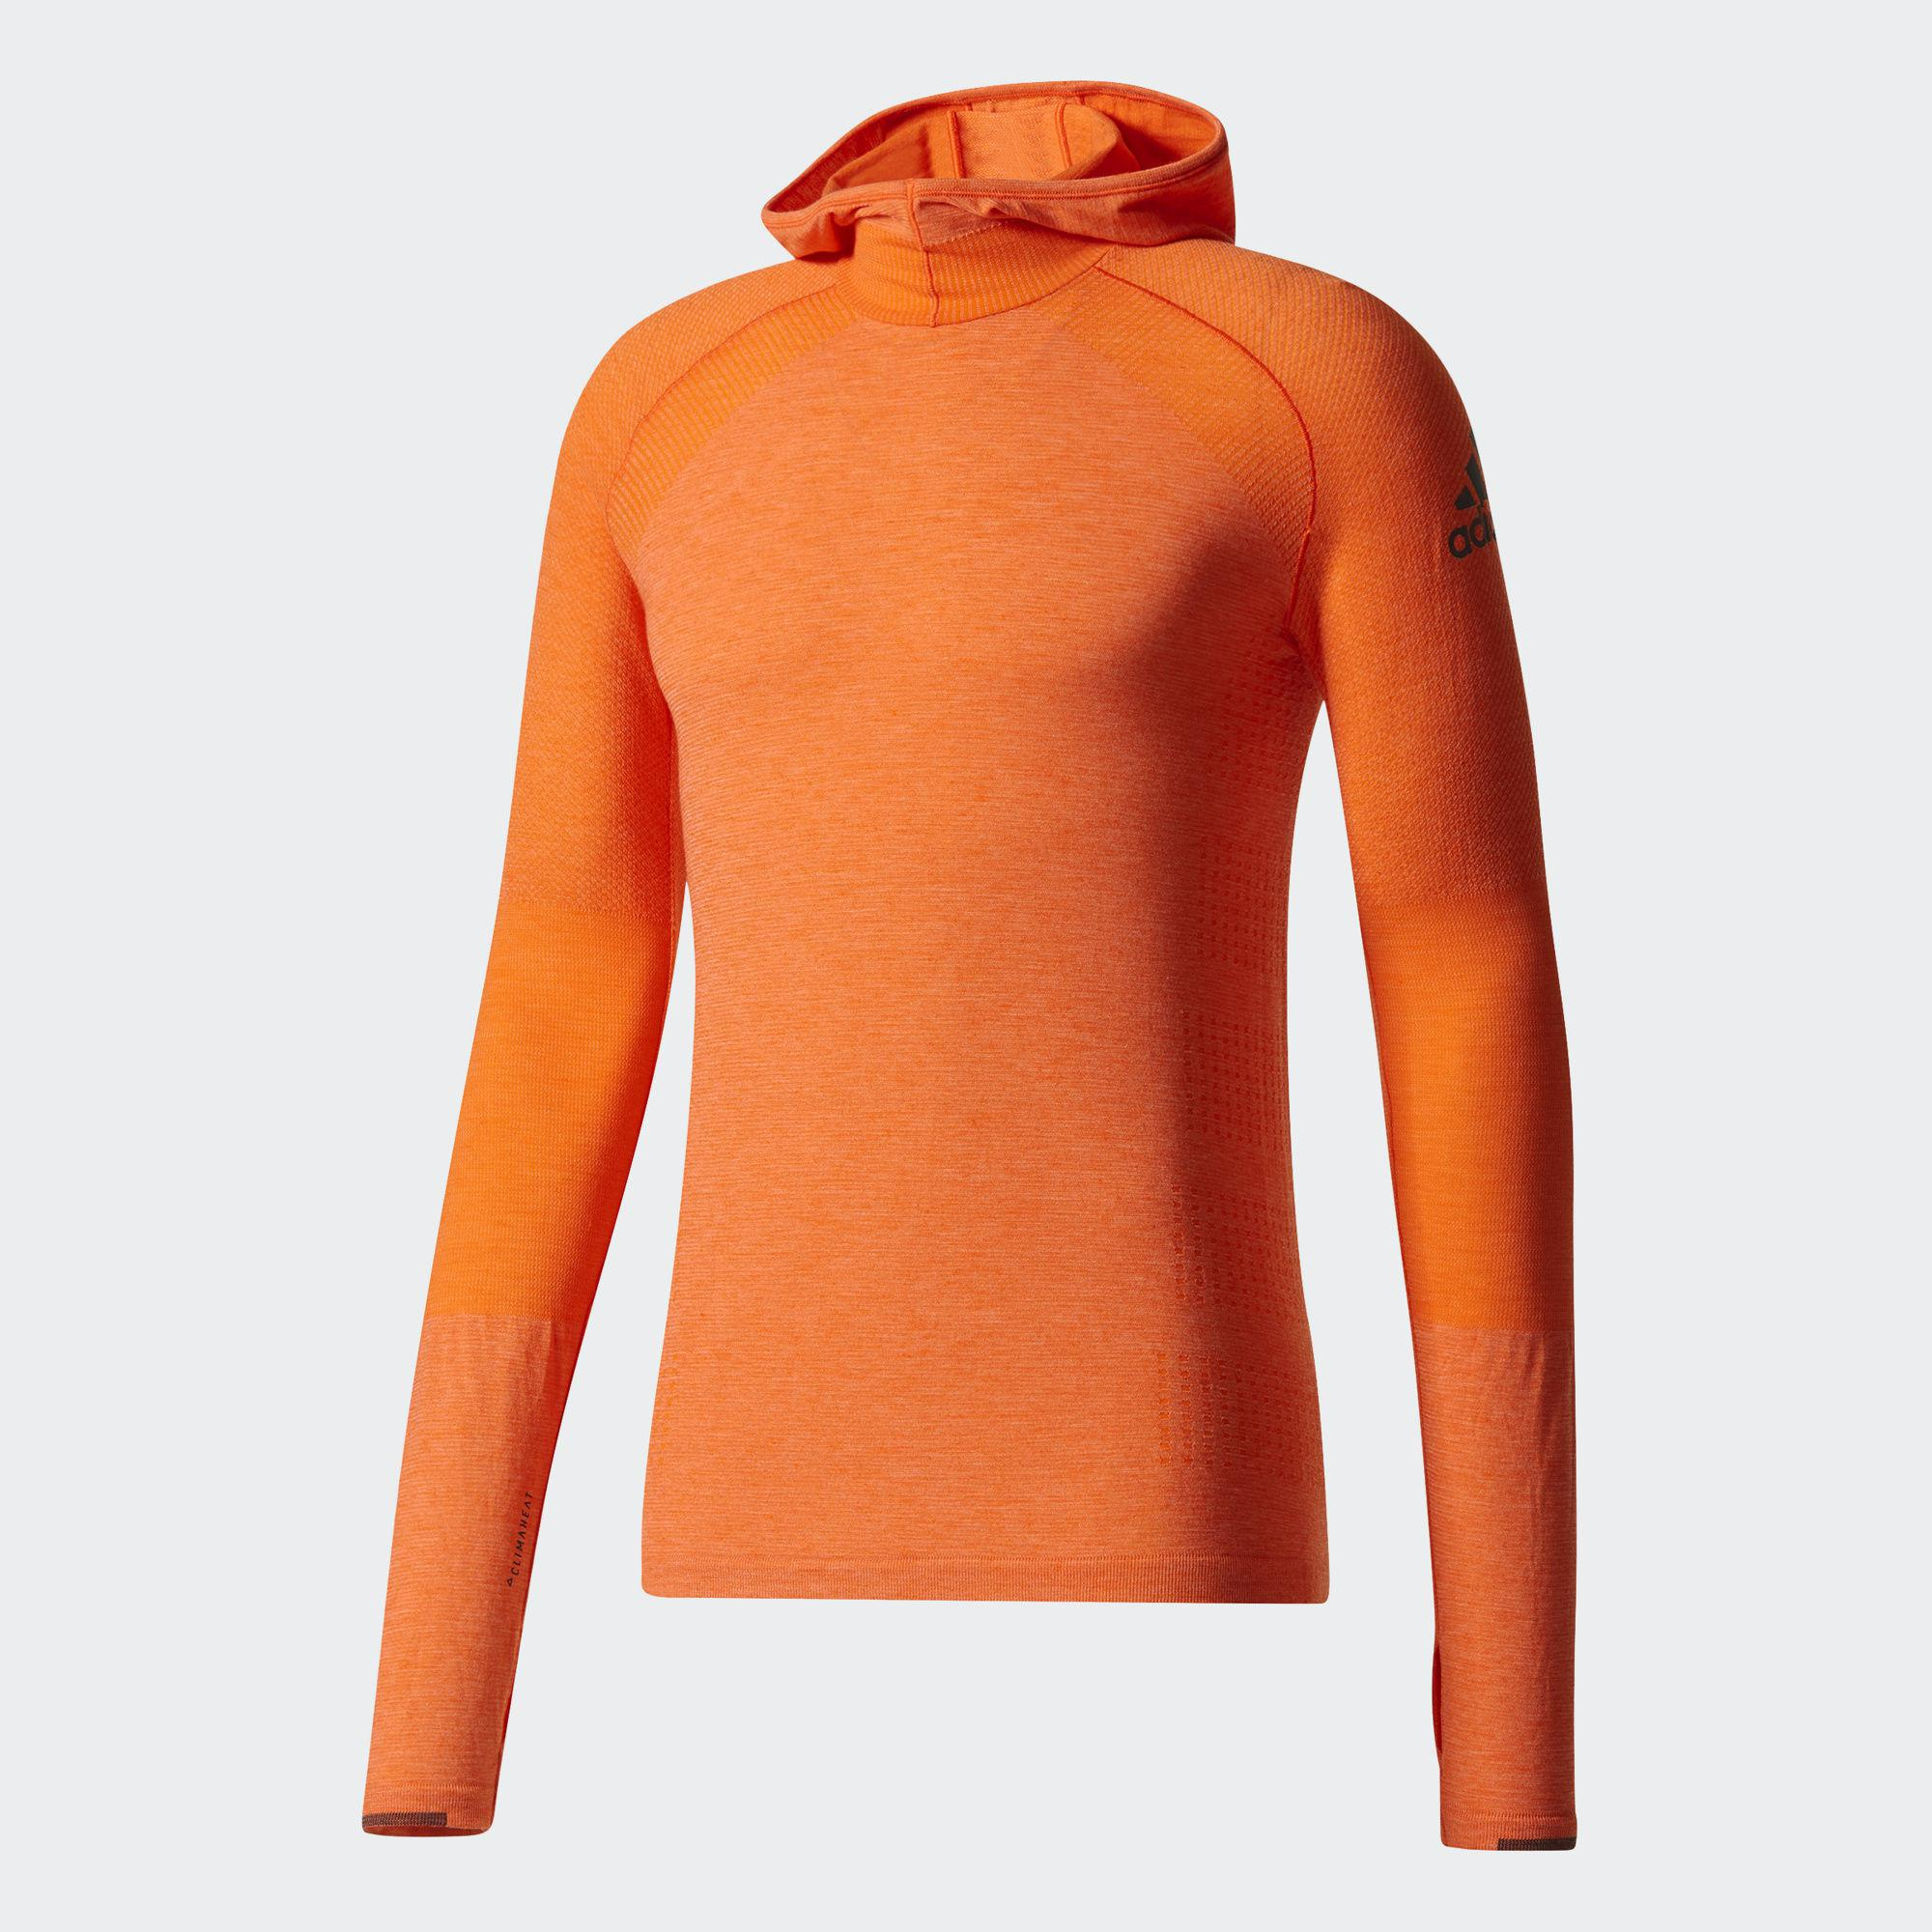teeshirt: (366, 78, 1716, 1928)
